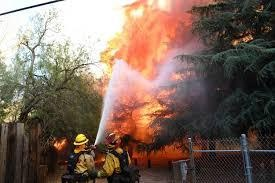fire: (99, 1, 187, 78), (246, 130, 259, 147)
